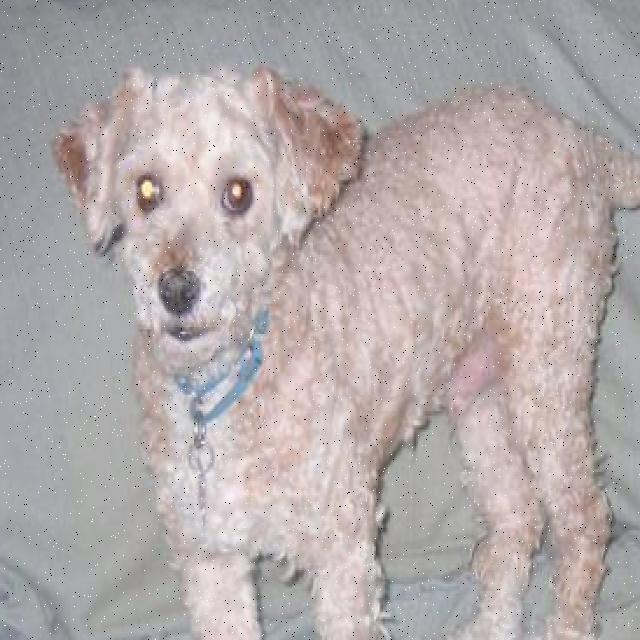Dog: (45, 52, 372, 386)
